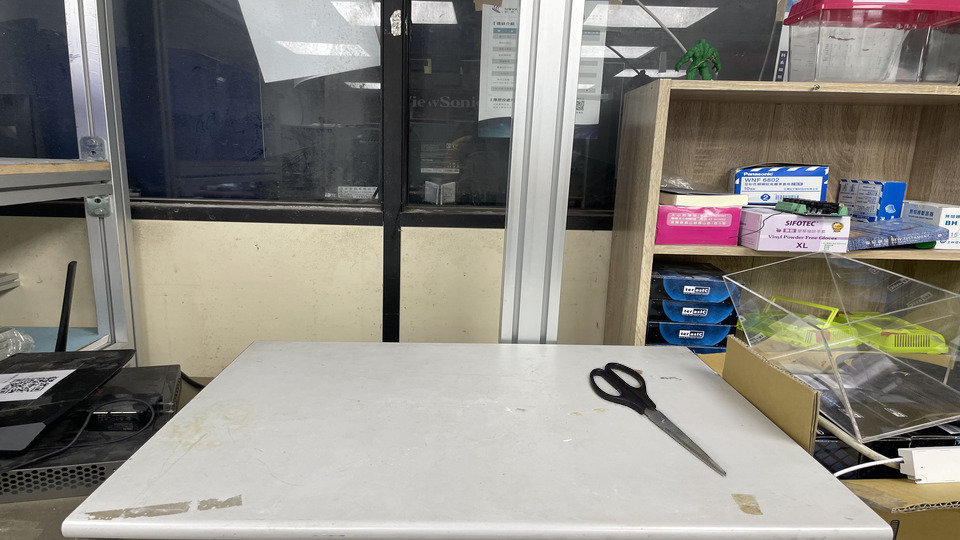blade: (254, 393, 351, 407)
round_grasp: (344, 382, 425, 431)
